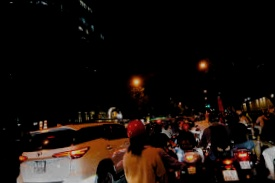Bien-so: (211, 170, 229, 183), (24, 147, 37, 161), (229, 164, 241, 173), (178, 164, 185, 172)
